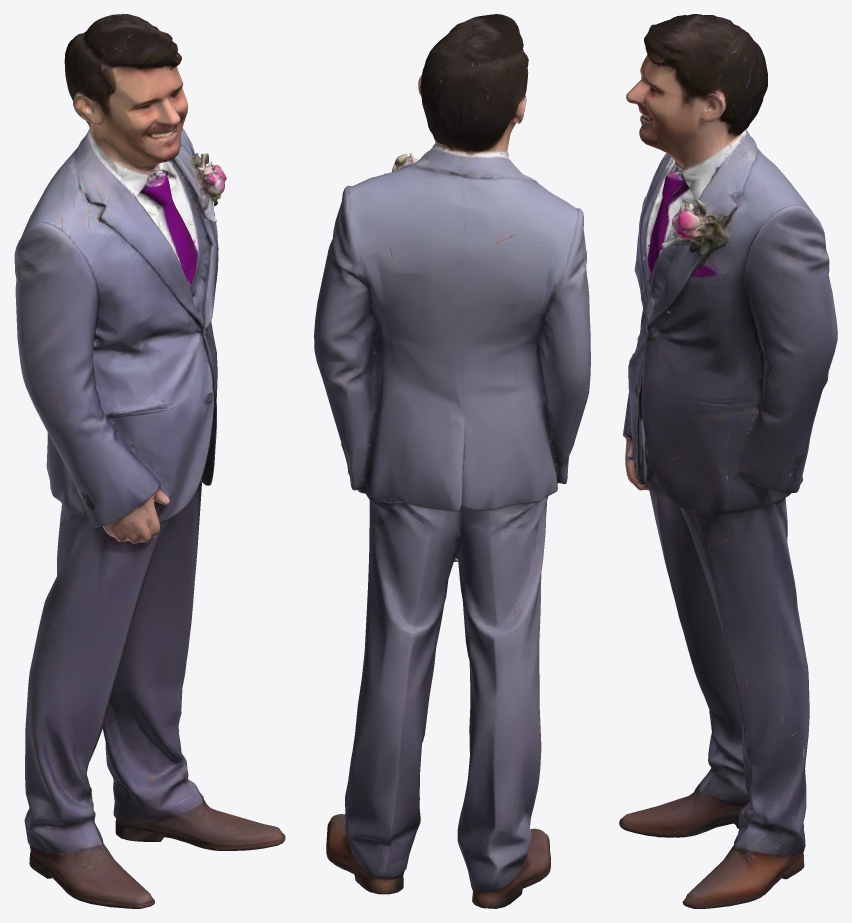
File: dad-base.glb
3 views of the same model, side by side, from view 1: azimuth 30°, elevation 25°; view 2: azimuth 150°, elevation 25°; view 3: azimuth 270°, elevation 25° (orthographic). The views are drawn at different scales.
Parts seen in each view (by area): view 1: Mesh_0; view 2: Mesh_0; view 3: Mesh_0.
Boxes of the visible parts, x1=… form: Mesh_0: x1=14, y1=14, x2=285, y2=908; Mesh_0: x1=314, y1=14, x2=590, y2=908; Mesh_0: x1=619, y1=14, x2=837, y2=908.
Bounding box in the file's own units: 0.6103 × 1.91 × 0.4612.
1 material, 1 textured.
